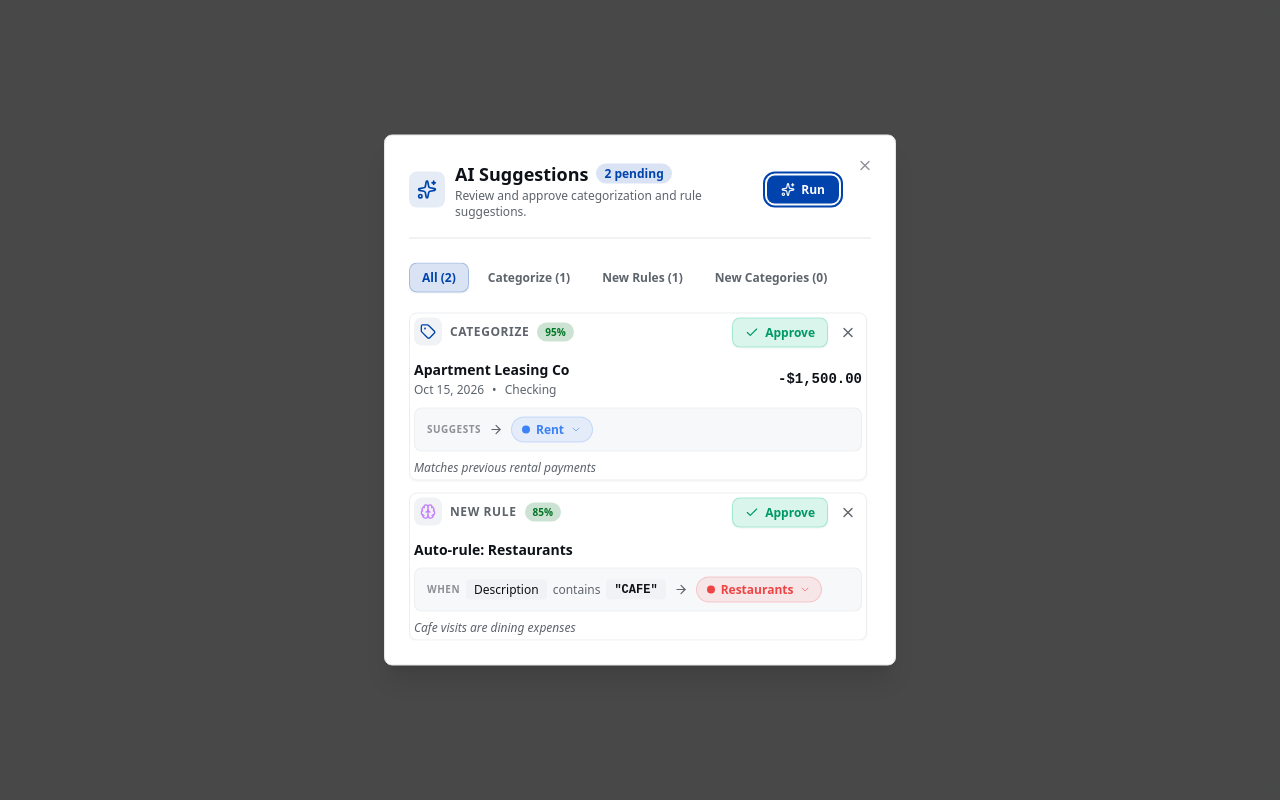
Test case: Simplified AiSuggestionsModal › opens category dropdown on pill click and allows changing category inline
Expected: the text "Rent" is shown, [536,422,564,438]
Click the button titled "Click to change category" at (552, 430), box [511,416,593,442]
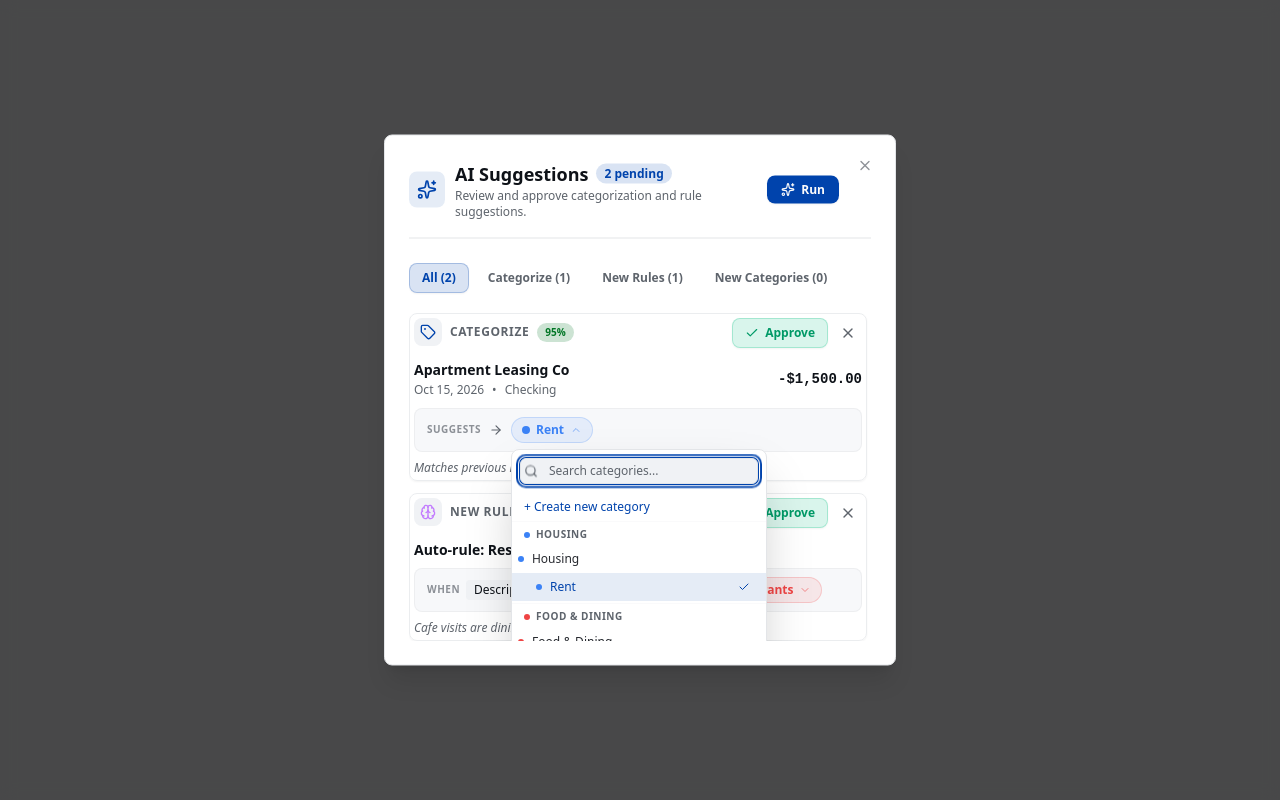
Now the field with placeholder "Search categories..." is shown, box [520,458,758,484]
Now the button "+ Create new category" is shown, box [512,492,766,522]
Now the button "Housing" is shown
# Select "Housing" parent button from dropdown
Click the button "Housing" at (639, 559), box [512,545,766,573]
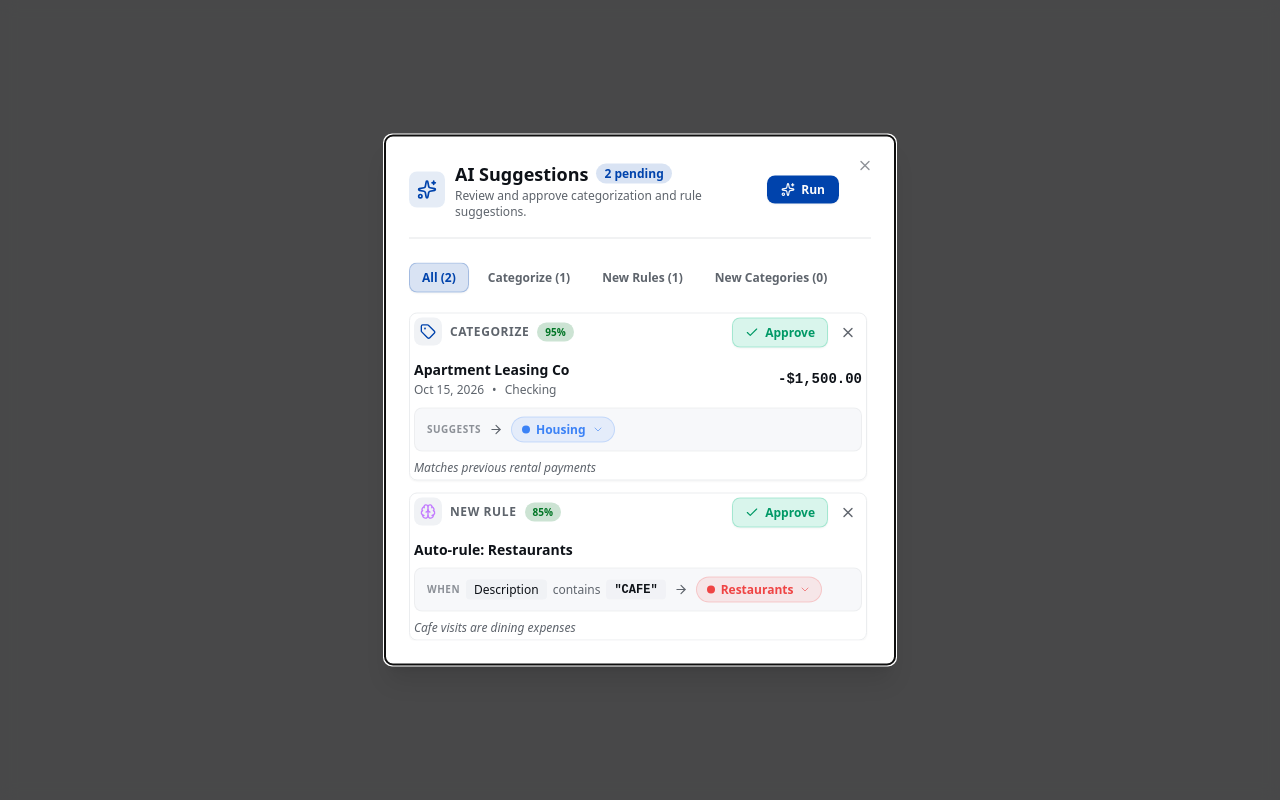
Now the button titled "Click to change category" reads "Housing", box [511,416,615,442]
